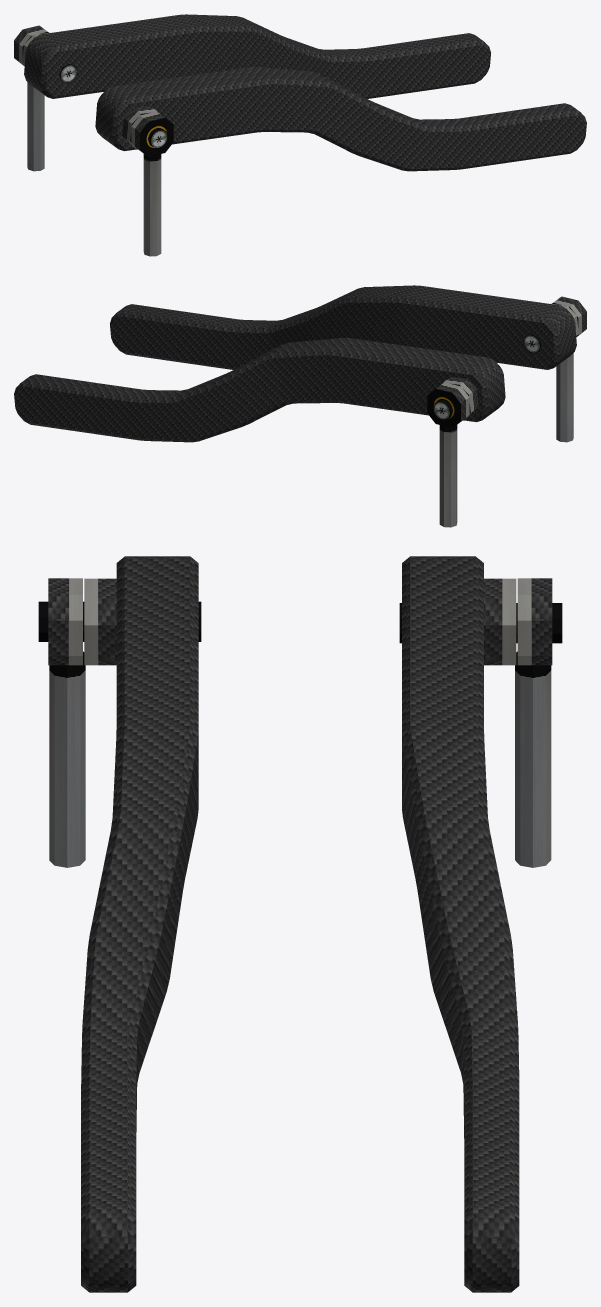
The model's file is K-WheelSuspention.fbx.
3 renders of one model, top to bottom at view 1: azimuth 30°, elevation 25°; view 2: azimuth 150°, elevation 25°; view 3: azimuth 270°, elevation 25°, orthographic. The views are drawn at different scales.
Visible parts, largest first — view 1: SuspArm_A, SuspArm_B, SuspDumperPiston_A, SuspDumperPiston_B, SuspDumperPistonHing_A, SuspDumperPistonHing_B, SuspArmDumperHimg_A; view 2: SuspArm_B, SuspArm_A, SuspDumperPiston_B, SuspDumperPiston_A, SuspDumperPistonHing_B, SuspDumperPistonHing_A, SuspArmDumperHimg_B; view 3: SuspArm_A, SuspArm_B, SuspDumperPiston_A, SuspDumperPiston_B, SuspDumperPistonHing_B, SuspDumperPistonHing_A, SuspArmDumperHimg_A, SuspArmDumperHimg_B.
Part boxes in pixels (x1,y1,x2,y2): SuspArm_A: (95, 67, 586, 171); SuspArm_B: (24, 14, 490, 98); SuspDumperPiston_A: (143, 154, 161, 256); SuspDumperPiston_B: (27, 82, 44, 171); SuspDumperPistonHing_A: (131, 111, 173, 156); SuspDumperPistonHing_B: (14, 25, 48, 65); SuspArmDumperHimg_A: (122, 106, 158, 149); SuspArm_B: (14, 338, 505, 442); SuspArm_A: (110, 285, 576, 369); SuspDumperPiston_B: (439, 425, 457, 527); SuspDumperPiston_A: (556, 353, 573, 442); SuspDumperPistonHing_B: (427, 382, 469, 427); SuspDumperPistonHing_A: (552, 296, 586, 336); SuspArmDumperHimg_B: (442, 377, 478, 420); SuspArm_A: (81, 556, 198, 1292); SuspArm_B: (402, 556, 519, 1292); SuspDumperPiston_A: (49, 651, 85, 867); SuspDumperPiston_B: (515, 651, 551, 867); SuspDumperPistonHing_B: (517, 578, 552, 665); SuspDumperPistonHing_A: (48, 578, 82, 665); SuspArmDumperHimg_A: (84, 578, 116, 665); SuspArmDumperHimg_B: (484, 578, 516, 665).
Bounding box in the file's own units: 41.5 × 13.13 × 20.18.
